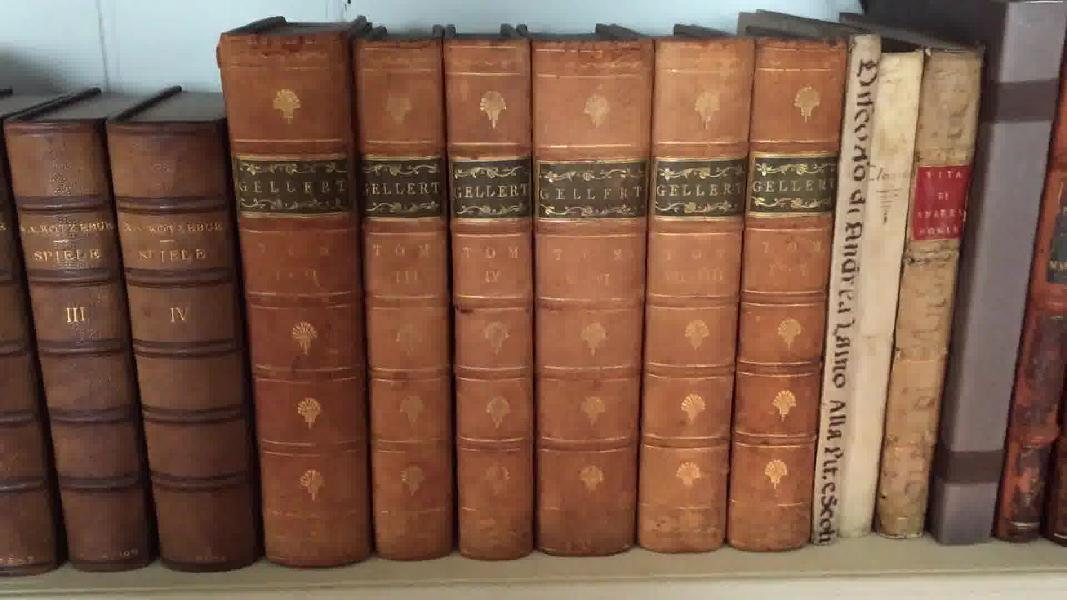Aa6-18_23: (208, 27, 863, 562)
Aa6-24: (805, 4, 885, 559)
Aa6-25: (835, 27, 927, 550)
Aa6-26: (882, 20, 1006, 547)
Aa6-27: (943, 7, 1052, 567)
